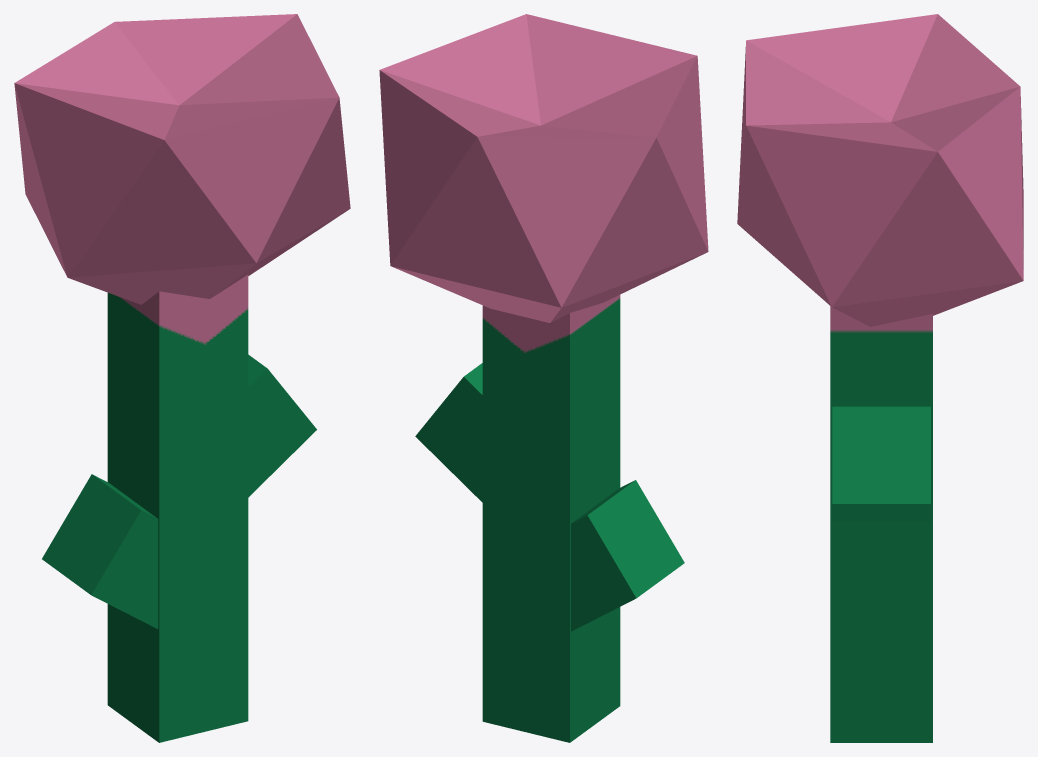
The model's file is Plant_flower.fbx.
3 views of the same model, side by side, from view 1: azimuth 30°, elevation 25°; view 2: azimuth 150°, elevation 25°; view 3: azimuth 270°, elevation 25° (orthographic). The views are drawn at different scales.
Visible parts, largest first — view 1: Flower; view 2: Flower; view 3: Flower.
Part boxes in pixels (left/top/right/bottom): Flower: left=14, top=14, right=350, bottom=742; Flower: left=379, top=14, right=708, bottom=742; Flower: left=737, top=14, right=1023, bottom=742.
Bounding box in the file's own units: 59.07 × 128 × 51.84.
